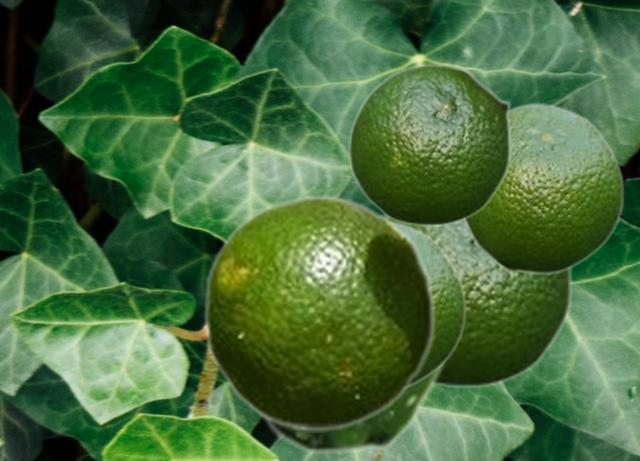calamansi: (202, 194, 436, 431), (461, 101, 624, 274), (348, 63, 511, 226), (416, 222, 573, 388), (252, 360, 449, 455), (392, 218, 466, 391)
